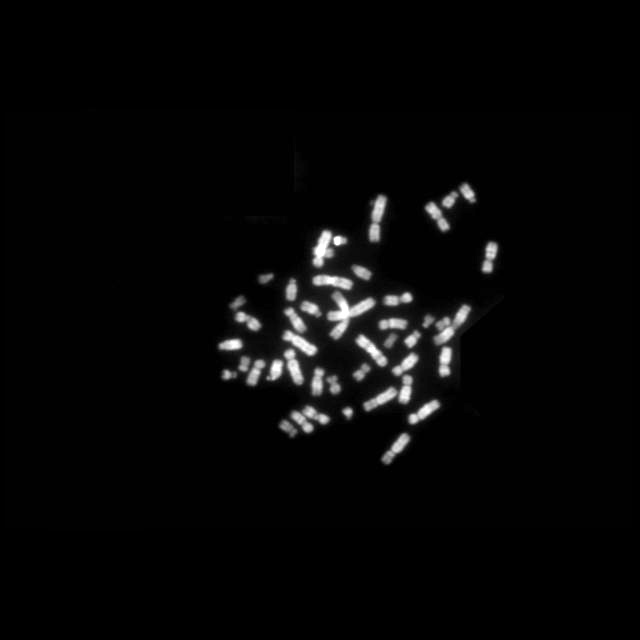chromosome: (432, 304, 472, 346), (326, 298, 376, 320), (356, 333, 388, 367), (381, 433, 412, 465), (363, 386, 397, 414), (282, 330, 318, 356), (331, 292, 351, 338), (408, 398, 440, 426), (369, 194, 387, 242), (424, 202, 450, 232), (284, 348, 304, 386), (314, 230, 332, 268), (392, 352, 418, 378), (283, 306, 307, 334), (312, 274, 352, 290), (234, 311, 262, 331), (302, 405, 330, 425), (290, 411, 314, 434), (248, 358, 266, 386), (482, 241, 496, 273), (438, 346, 452, 378), (378, 318, 408, 332), (383, 292, 412, 306), (310, 368, 324, 397), (268, 359, 284, 383), (459, 182, 476, 204), (301, 300, 321, 318), (400, 374, 412, 404), (404, 330, 422, 348), (279, 420, 297, 438), (352, 264, 372, 280), (354, 362, 370, 382), (285, 278, 299, 300), (326, 374, 340, 396), (442, 191, 458, 209), (312, 246, 334, 258), (219, 338, 243, 349), (258, 272, 274, 286), (230, 296, 246, 310), (384, 332, 398, 348), (221, 369, 239, 381), (436, 317, 450, 331), (238, 356, 250, 372), (422, 314, 434, 328), (333, 236, 347, 247), (343, 408, 355, 420)
